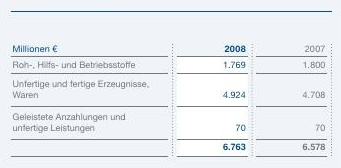table: (0, 0, 341, 168)
